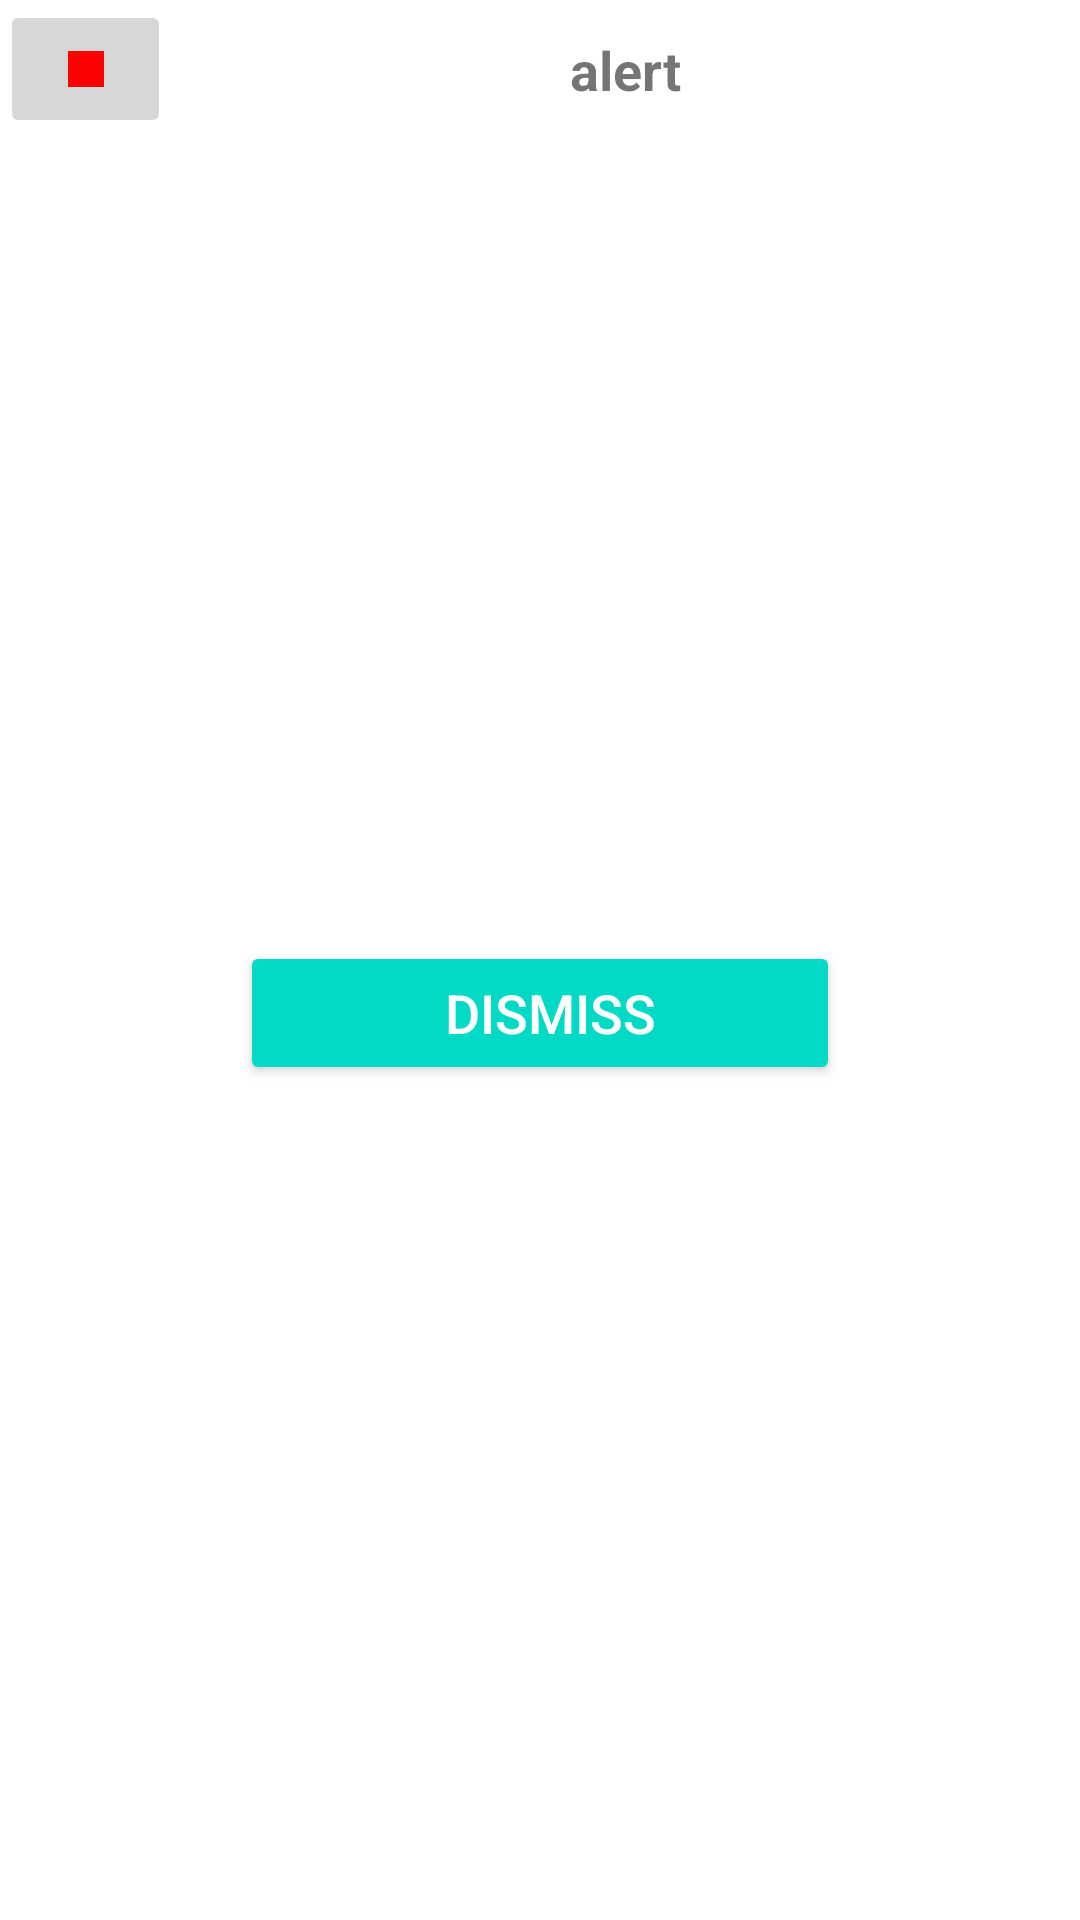

Icon click points for this 1080px×1920px phone screenshot, format (x=x, y=y):
stop: (x=85, y=69)
